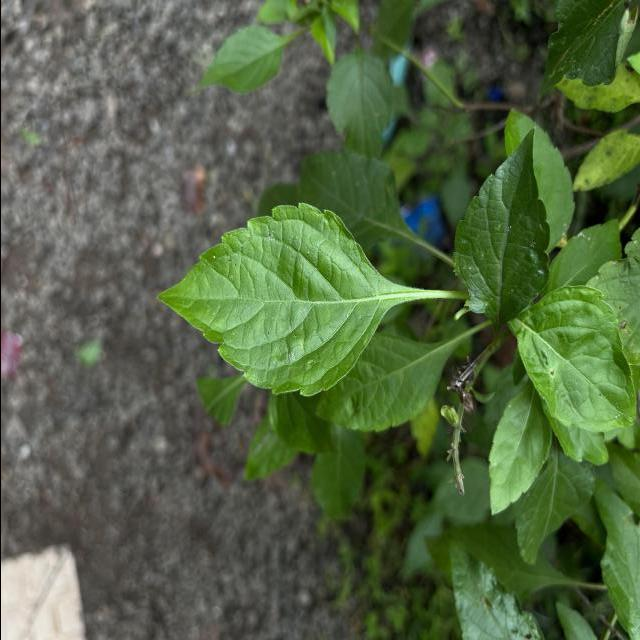Ocimum gratissimum: (152, 200, 444, 398), (449, 122, 554, 340), (504, 282, 640, 436)
